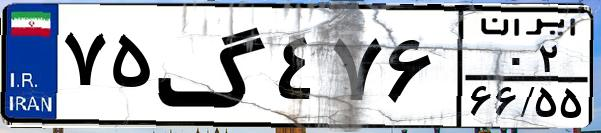0: (508, 27, 537, 80)
2: (537, 27, 568, 80)
4: (270, 28, 330, 110)
5: (110, 28, 156, 98), (560, 70, 590, 125), (535, 70, 560, 125)
6: (385, 28, 445, 110), (470, 70, 495, 125), (495, 70, 520, 125)
7: (330, 28, 385, 110), (57, 26, 110, 100)
گ: (156, 12, 270, 120)
